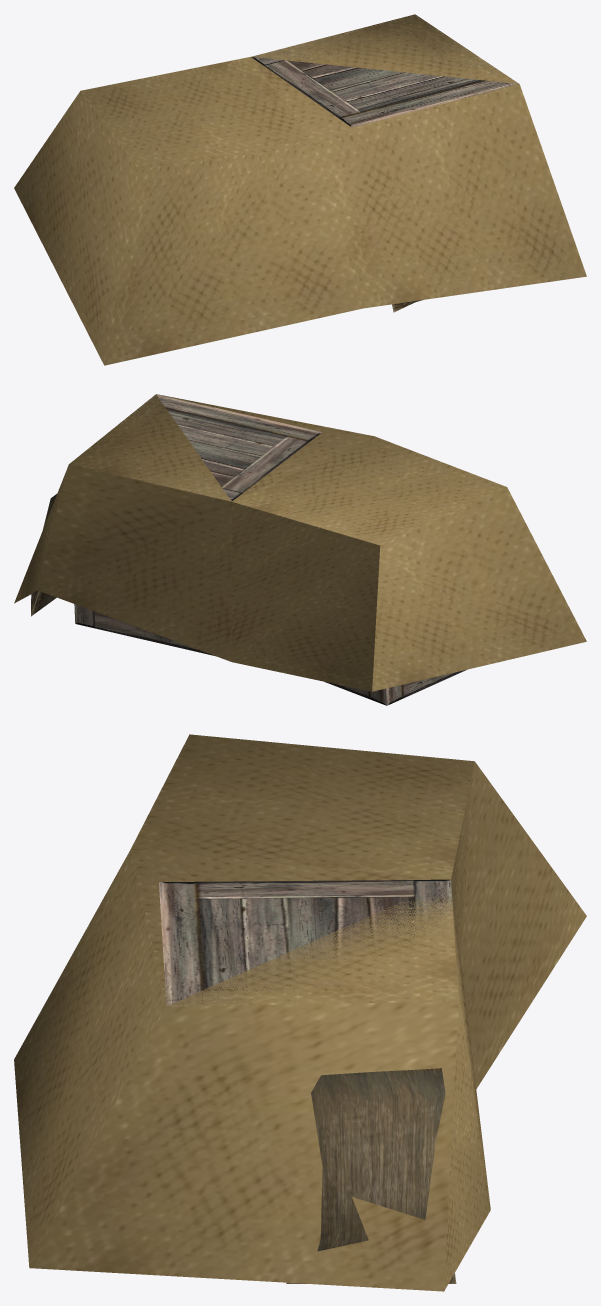
File: prop_group_F.fbx
The picture shows the model from 3 angles, top to bottom: view 1: azimuth 30°, elevation 25°; view 2: azimuth 150°, elevation 25°; view 3: azimuth 270°, elevation 25°; orthographic projection. The views are drawn at different scales.
Parts seen in each view (by area): view 1: net_high, crate_top; view 2: net_high, crate_top, crate_sides, crate_sides.001, sack_high_2; view 3: net_high, crate_top, sack_high_2.
Part boxes in pixels (<box>): net_high: <box>14,14,586,365</box>; crate_top: <box>251,16,518,127</box>; net_high: <box>14,394,586,691</box>; crate_top: <box>121,394,321,501</box>; crate_sides: <box>74,437,315,655</box>; crate_sides.001: <box>324,669,466,705</box>; sack_high_2: <box>31,494,56,616</box>; net_high: <box>14,734,586,1291</box>; crate_top: <box>159,879,452,1006</box>; sack_high_2: <box>286,1068,456,1283</box>.
Size of the model in its own units: 1912 by 655 by 1302.
2 materials, 2 textured.
